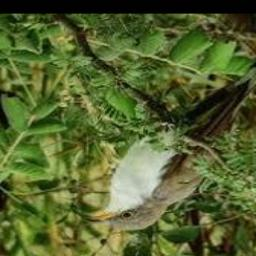Cuckoo: (82, 33, 256, 230)
